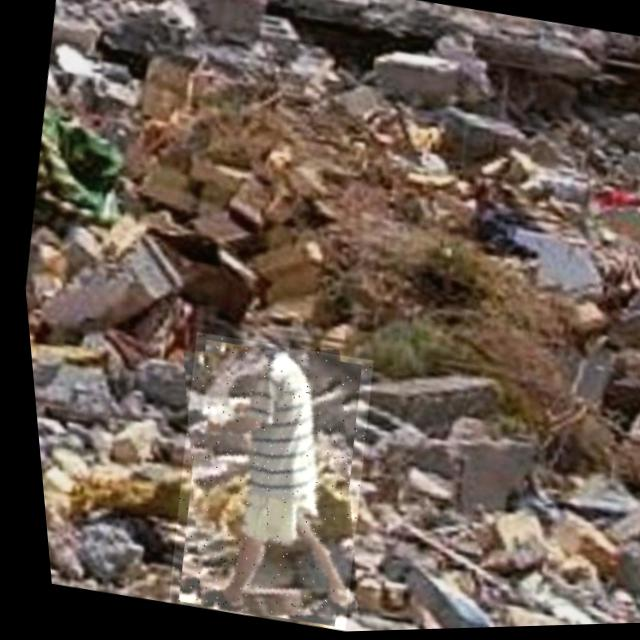Person in Rubble: (138, 329, 385, 637)
